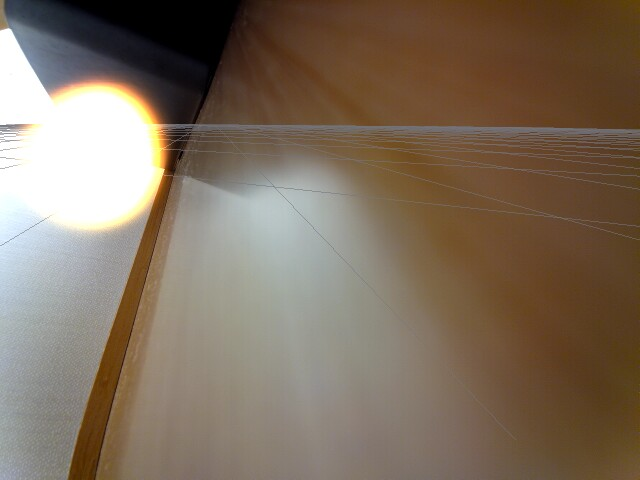firebig: (9, 73, 182, 238)
